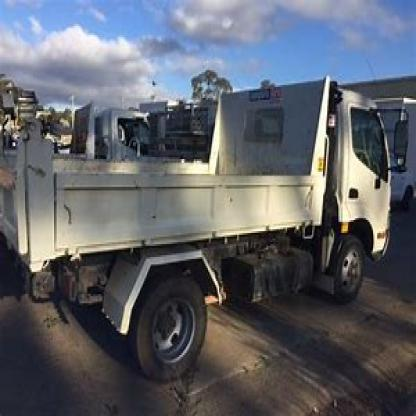dump_truck: (8, 74, 398, 396)
